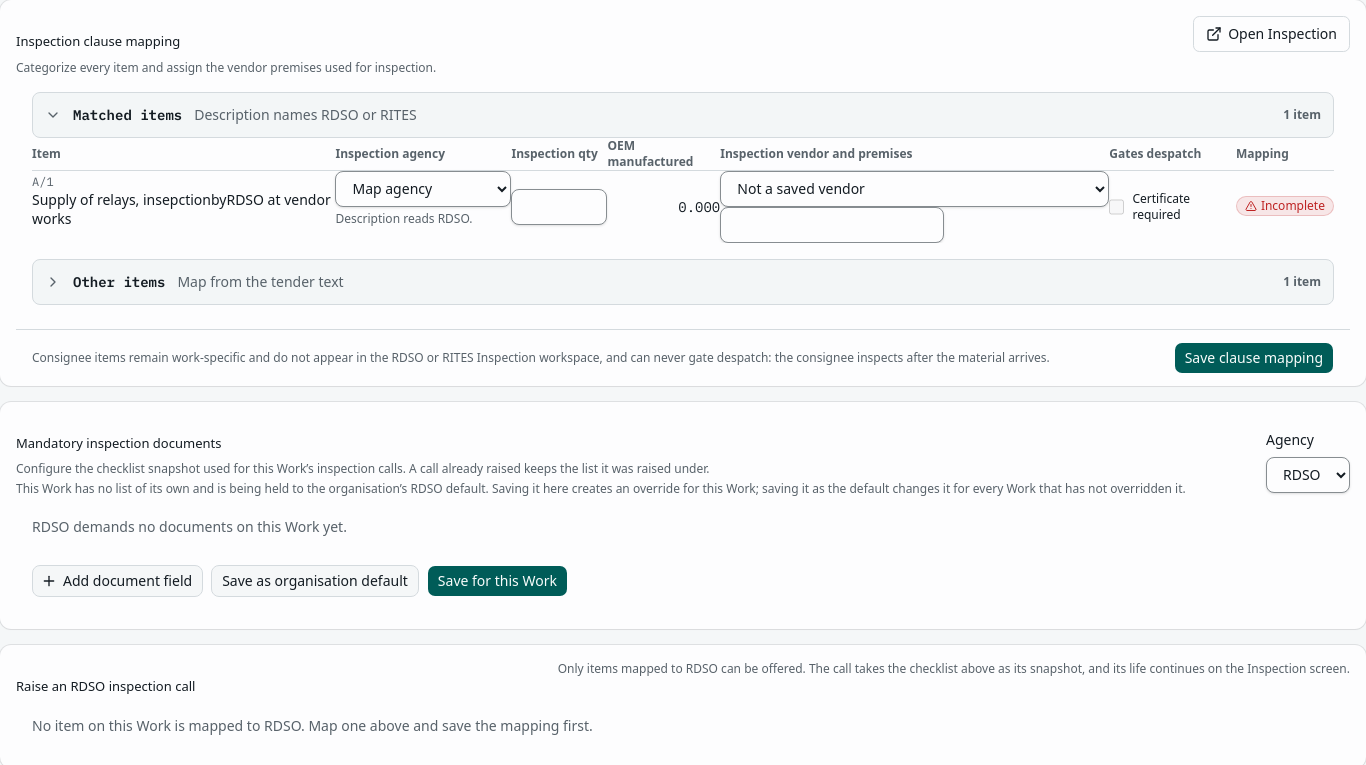
Test case: the inspection clause tab › splits the items into two sections, the matched one open
Click the button "Other items Map from the tender text 1 item" at {"x": 119, "y": 282}, box left=33, top=260, right=1333, bottom=304
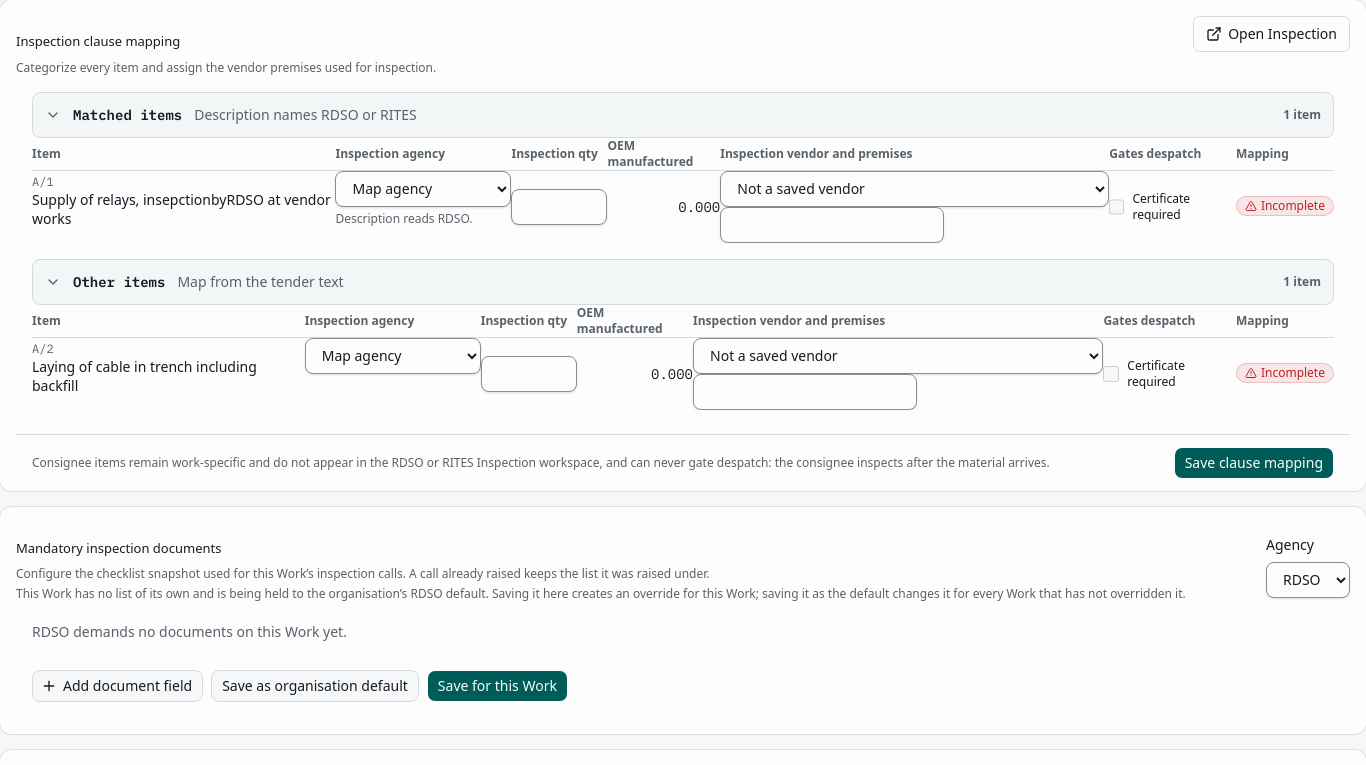
Check: the dropdown named "Inspection agency for A/2" is shown, box left=305, top=338, right=481, bottom=374
